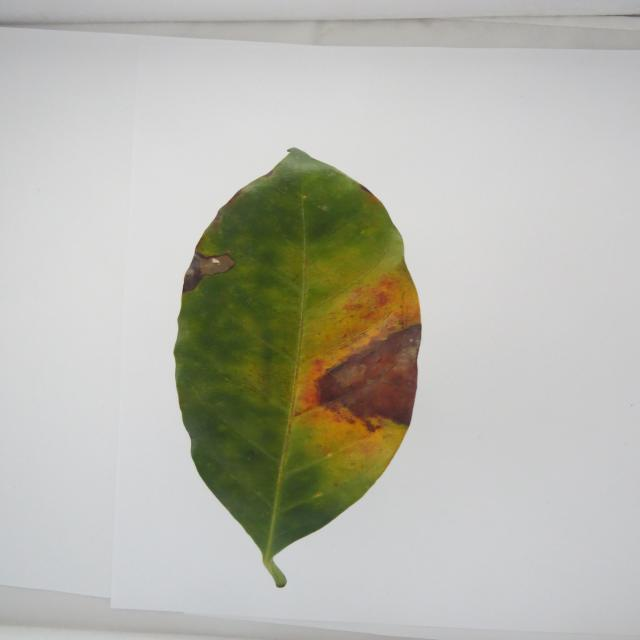DeficienciaNutricional-Fosforo: (175, 149, 422, 588)
